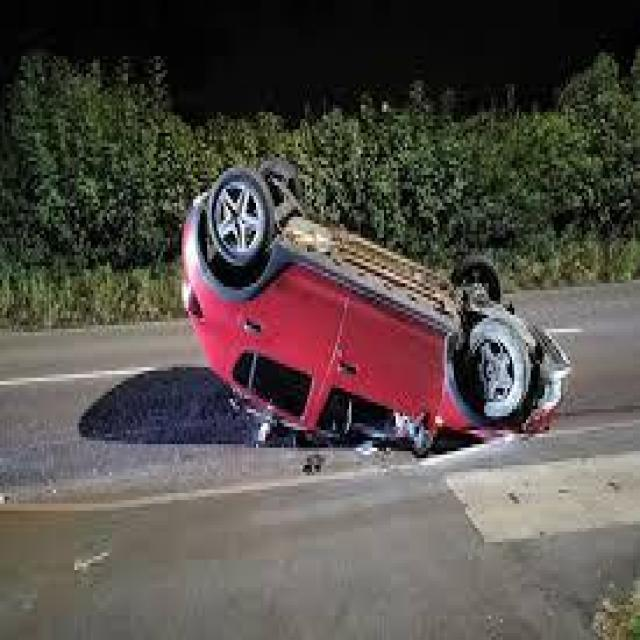severe: (174, 143, 572, 444)
